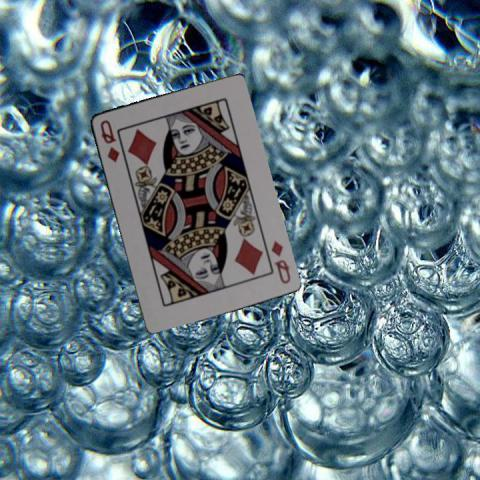Qd: (268, 238, 292, 286), (96, 117, 120, 163)
